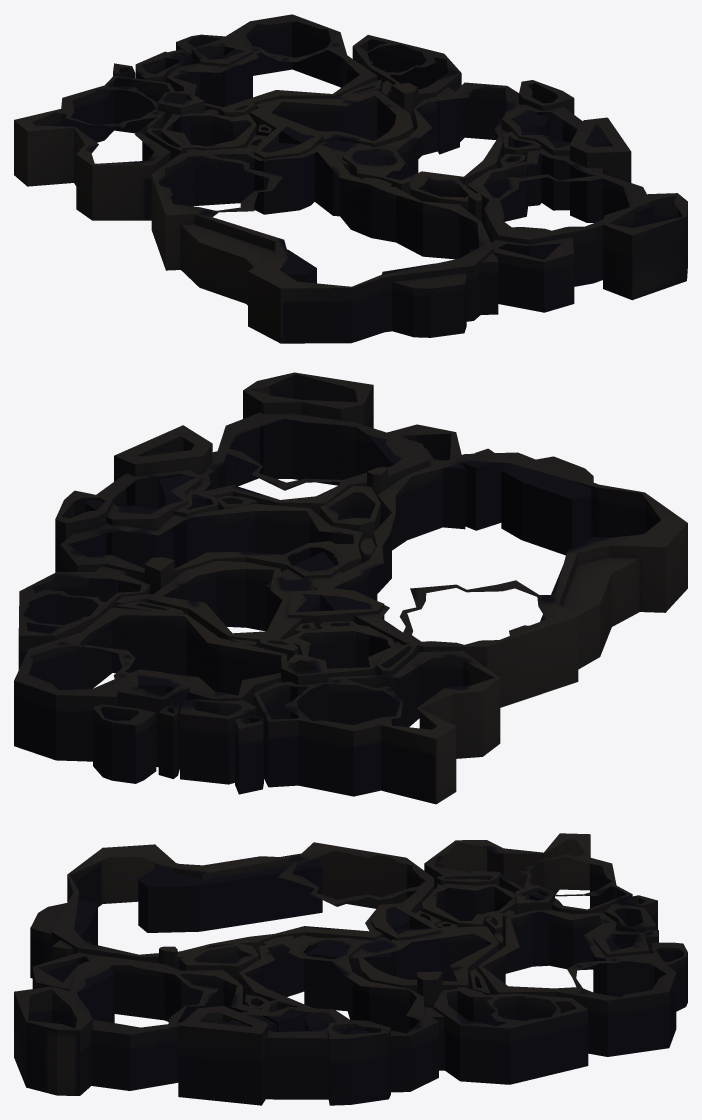
The model's file is Ground_01.FBX.
3 views of the same model, one above another, from view 1: azimuth 30°, elevation 25°; view 2: azimuth 150°, elevation 25°; view 3: azimuth 270°, elevation 25° (orthographic). The views are drawn at different scales.
Visible parts, largest first — view 1: Ground_01; view 2: Ground_01; view 3: Ground_01.
Part boxes in pixels (x1,y1,x2,y2): Ground_01: (14, 14, 687, 343); Ground_01: (14, 372, 687, 804); Ground_01: (14, 833, 687, 1105).
Size of the model in its own units: 18.19 by 2.81 by 23.98.
